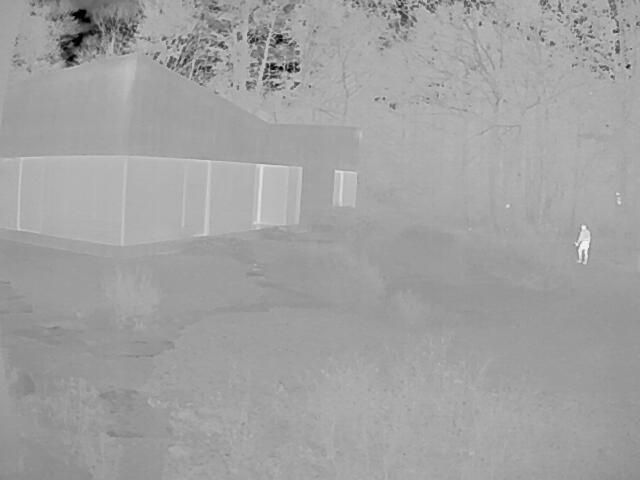person: (573, 223, 589, 265)
